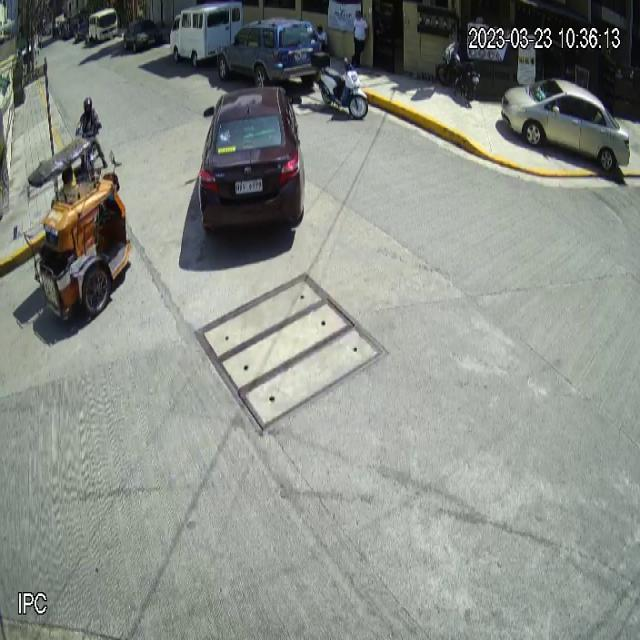Car: (198, 86, 305, 235), (501, 78, 632, 173), (217, 17, 323, 89)
Motorcycle: (310, 48, 368, 122)
Tricycle: (22, 136, 133, 324)
Van: (170, 1, 242, 67)
